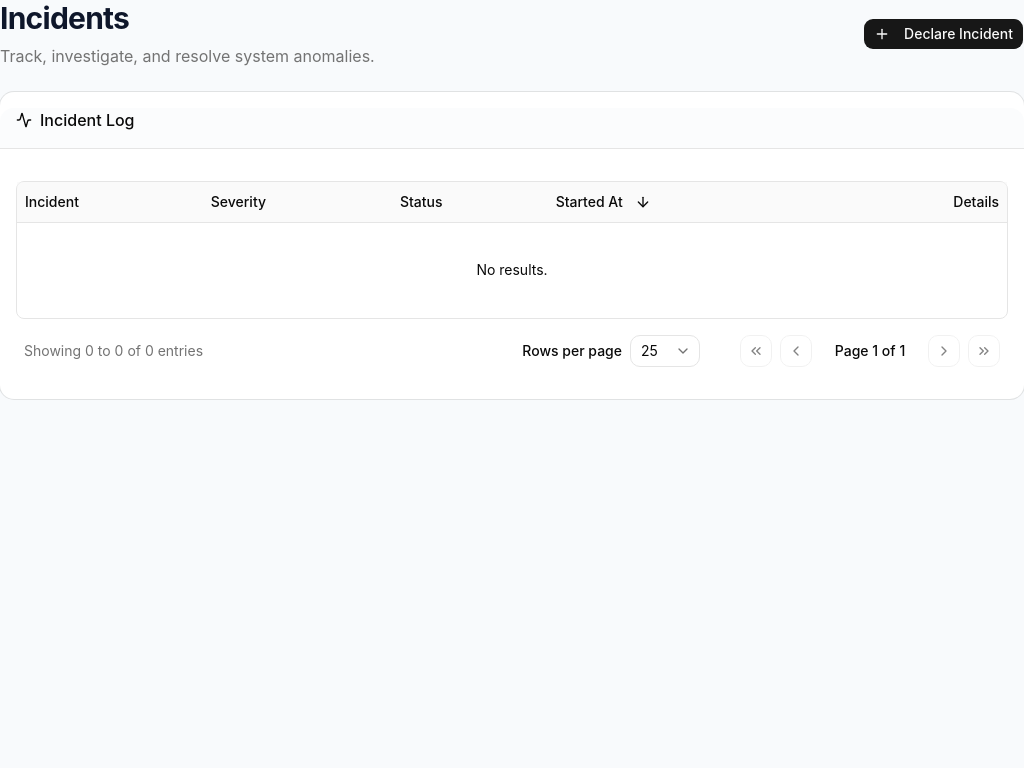
it: Declare Incident (list page) › will not submit without a title
The image size is (1024, 768).
Click the button "Declare Incident" at (944, 34), box [863, 18, 1023, 50]
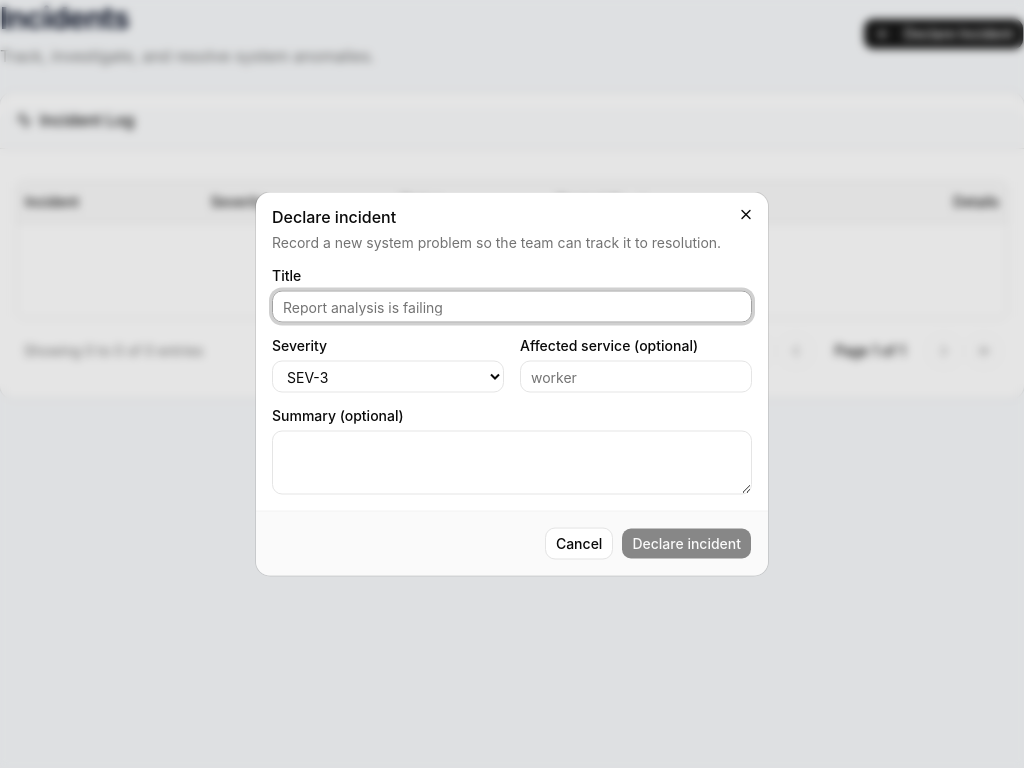
Expected: the button "Declare incident" is disabled, [621, 528, 752, 560]
